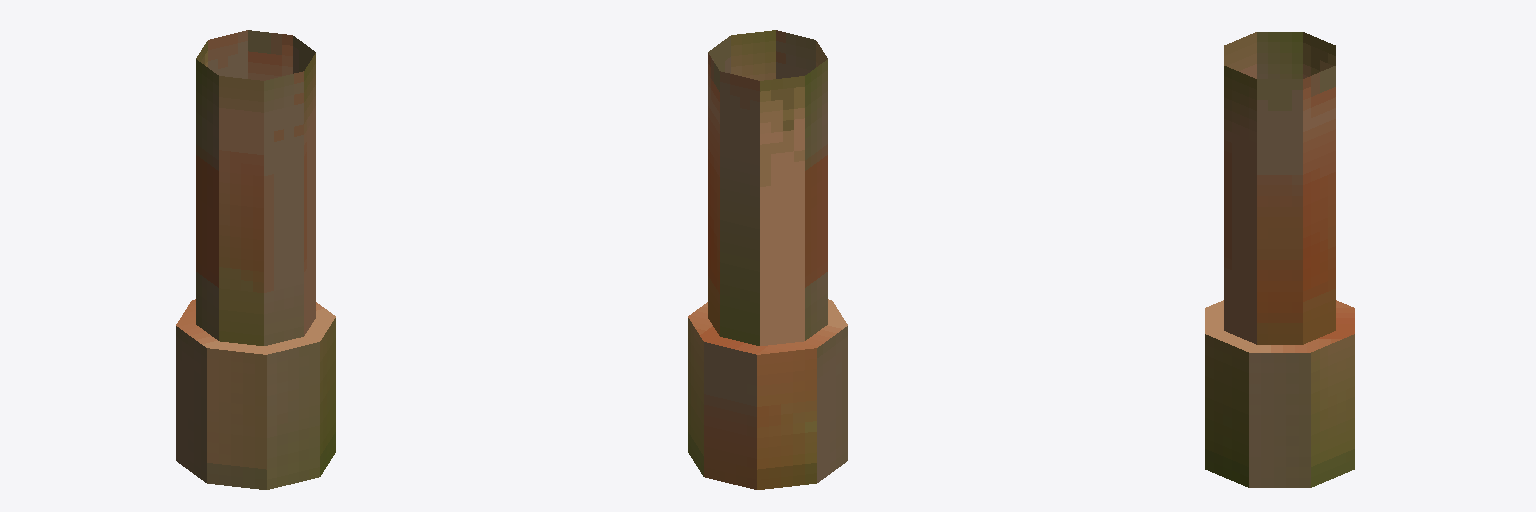
The picture shows the model from 3 angles: view 1: azimuth 30°, elevation 25°; view 2: azimuth 150°, elevation 25°; view 3: azimuth 270°, elevation 25°; orthographic projection.
Parts seen in each view (by area): view 1: cylinder; view 2: cylinder; view 3: cylinder.
Boxes of the visible parts, <box> form: cylinder: <box>176,30,335,489</box>; cylinder: <box>688,30,847,489</box>; cylinder: <box>1205,32,1354,487</box>.
Size of the model in its own units: 0.7812 by 2.31 by 0.7812.
Materials: 1 (1 with a texture image).